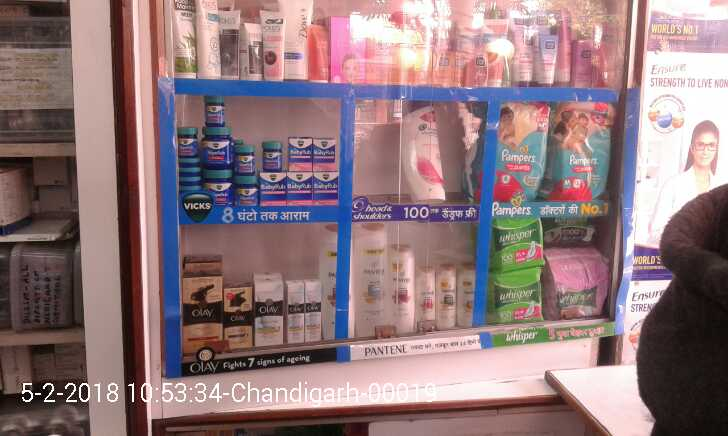beauty: (394, 101, 445, 203), (354, 224, 389, 340), (177, 272, 222, 353), (386, 250, 419, 335), (251, 275, 288, 346), (218, 284, 252, 359), (414, 263, 436, 332), (283, 277, 303, 341), (304, 282, 323, 348), (437, 264, 456, 329), (460, 265, 477, 322)
pharmacy: (551, 101, 614, 197), (489, 105, 547, 200), (545, 250, 608, 316), (486, 269, 543, 326), (486, 218, 550, 268), (203, 168, 235, 208), (201, 126, 230, 166), (285, 138, 317, 171), (257, 170, 284, 208), (260, 134, 283, 172), (178, 159, 201, 195), (287, 172, 312, 205), (312, 137, 338, 168), (199, 96, 228, 123), (314, 172, 341, 201), (230, 175, 254, 205), (176, 124, 196, 156), (233, 144, 252, 168)
